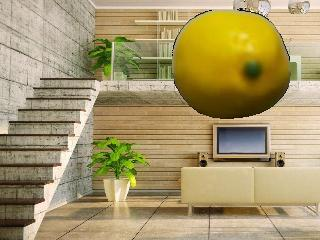lemon: (170, 5, 294, 121)
